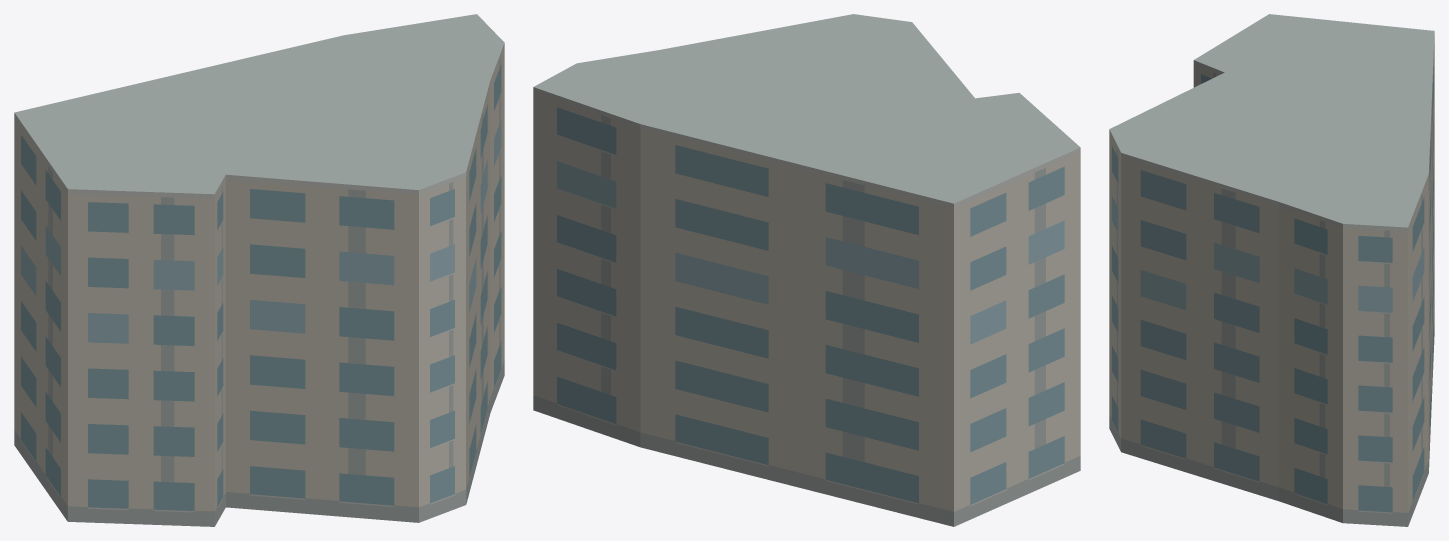
Rendered from survey-upis-32850570.glb.
The picture shows the model from 3 angles, left to right: view 1: azimuth 30°, elevation 25°; view 2: azimuth 150°, elevation 25°; view 3: azimuth 270°, elevation 25°; orthographic projection. The views are drawn at different scales.
Visible parts, largest first — view 1: survey-upis-32850570.tmp; view 2: survey-upis-32850570.tmp; view 3: survey-upis-32850570.tmp.
Boxes of the visible parts, x1,y1,x2,y2 form: survey-upis-32850570.tmp: (14,14,504,526); survey-upis-32850570.tmp: (533,14,1080,526); survey-upis-32850570.tmp: (1109,14,1434,526).
Size of the model in its own units: 25.81 by 16.87 by 16.62.
